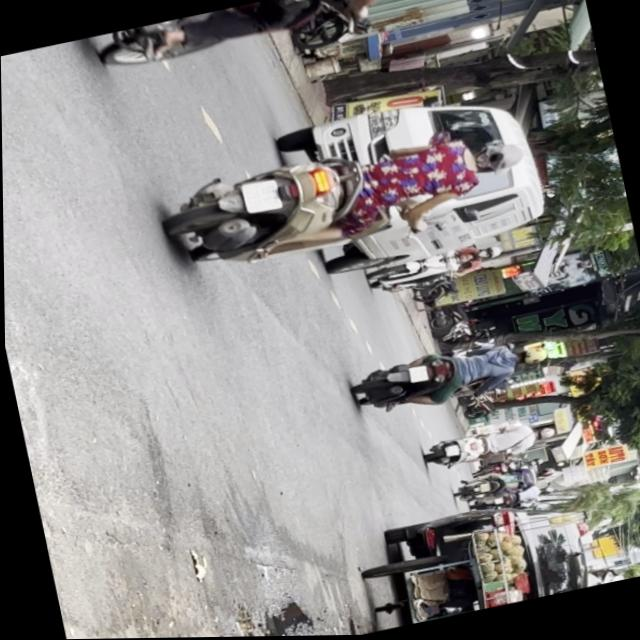helmet: (514, 346, 546, 369)
licenseplate: (156, 111, 538, 284), (347, 329, 552, 422)
motorcyclist: (467, 138, 530, 180)
nohelmet: (240, 179, 282, 215), (407, 366, 428, 384)
